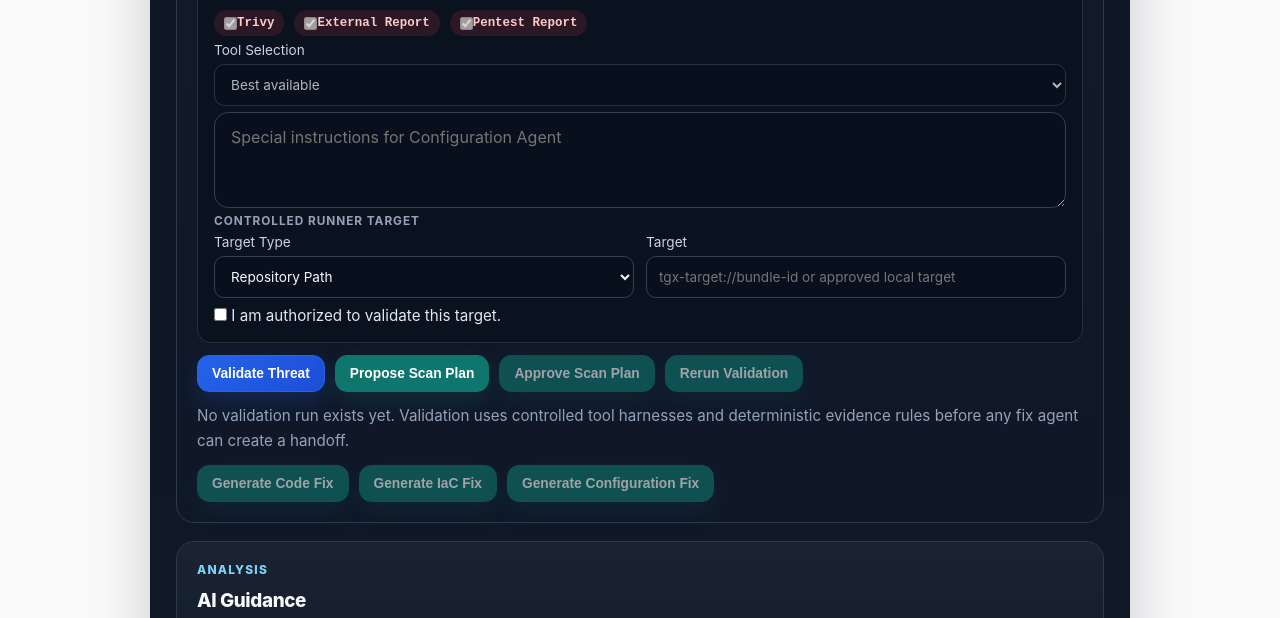
Test: ThreatDetailPage agent orchestration › proposes and approves a controlled domain-agent scan plan
(page scrolled)
Type "/tmp/threatgenix-demo-repo" into the field titled "Controlled runner target reference". click: coordinates (856, 277)
box: [646,256,1066,298]
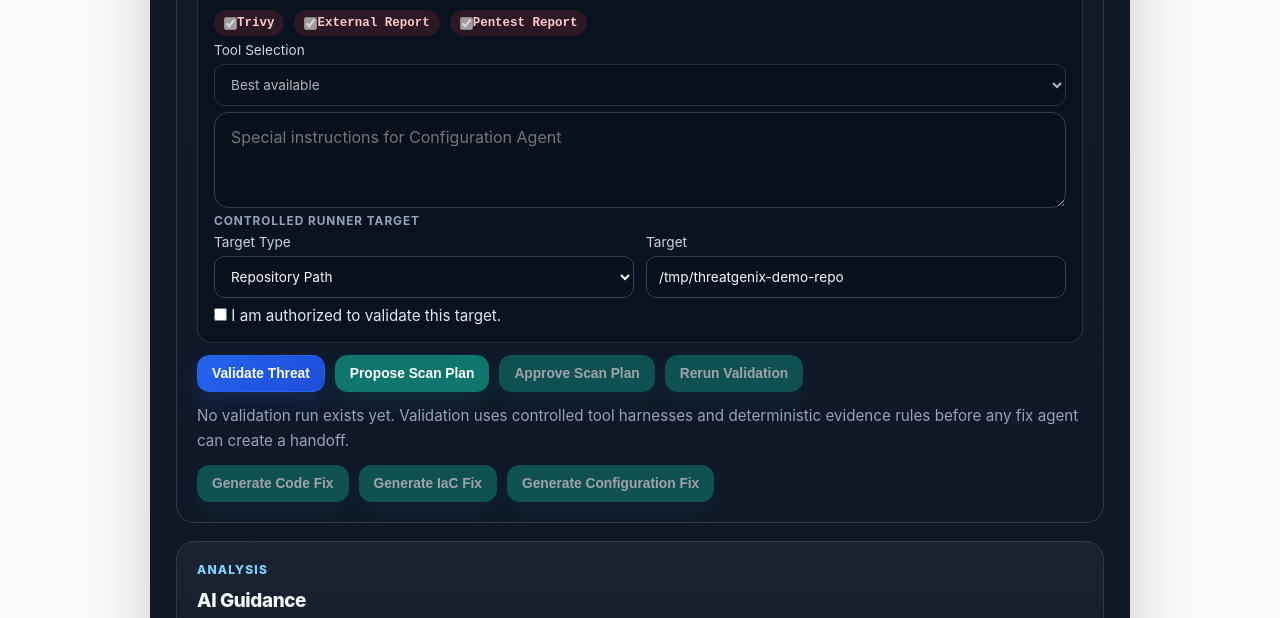
Click the checkbox labelled "I am authorized to validate this target.". click: coordinates (220, 315)
box: [214,308,227,321]
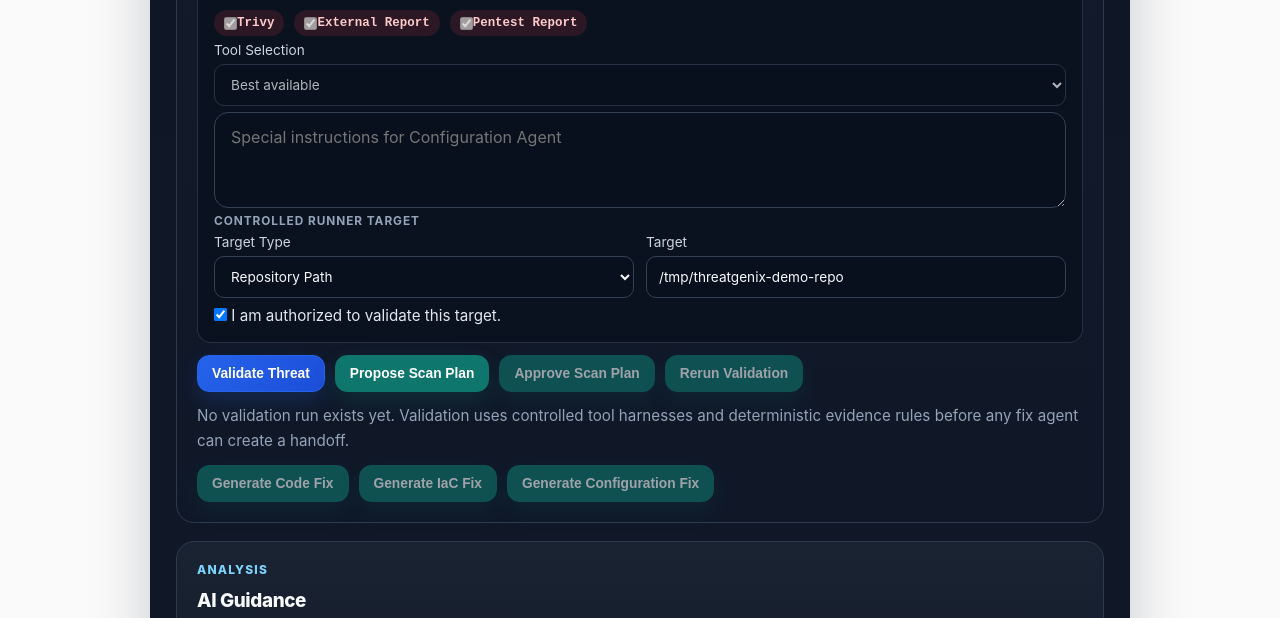
Click the button "Propose Scan Plan". click: coordinates (412, 374)
box: [335,355,489,392]
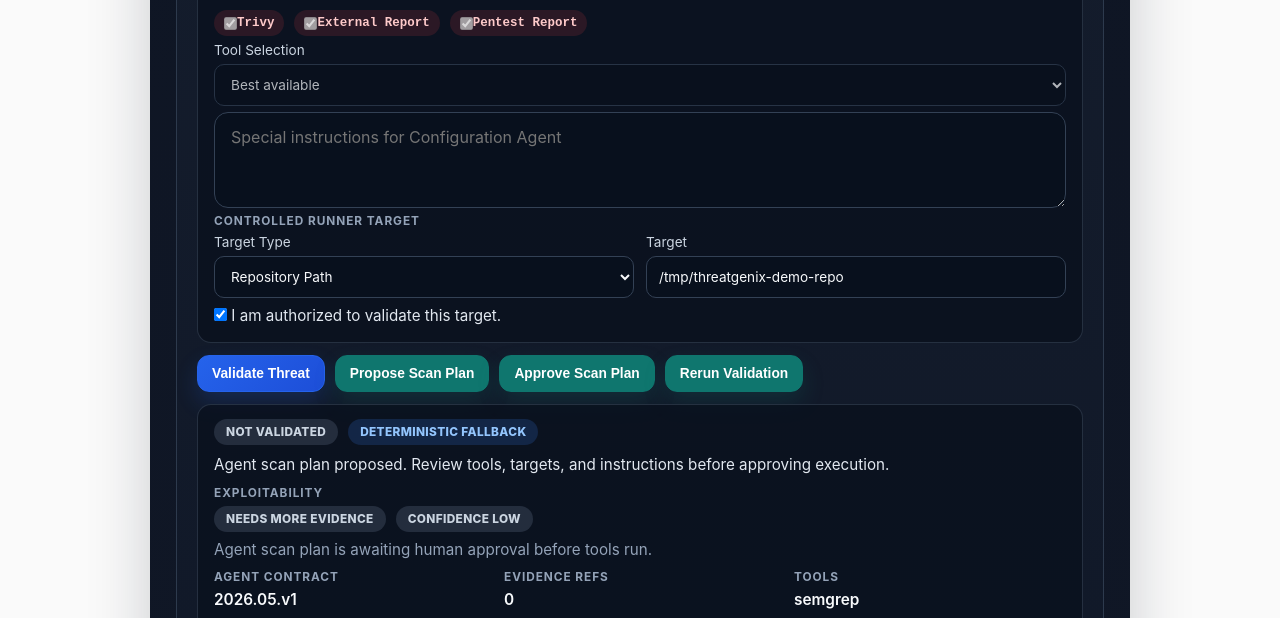
Check: the text "Needs More Evidence" is shown, box [214,506,386,532]
Click the button "Approve Scan Plan". click: coordinates (577, 374)
box: [499,355,655,392]
(page scrolled)
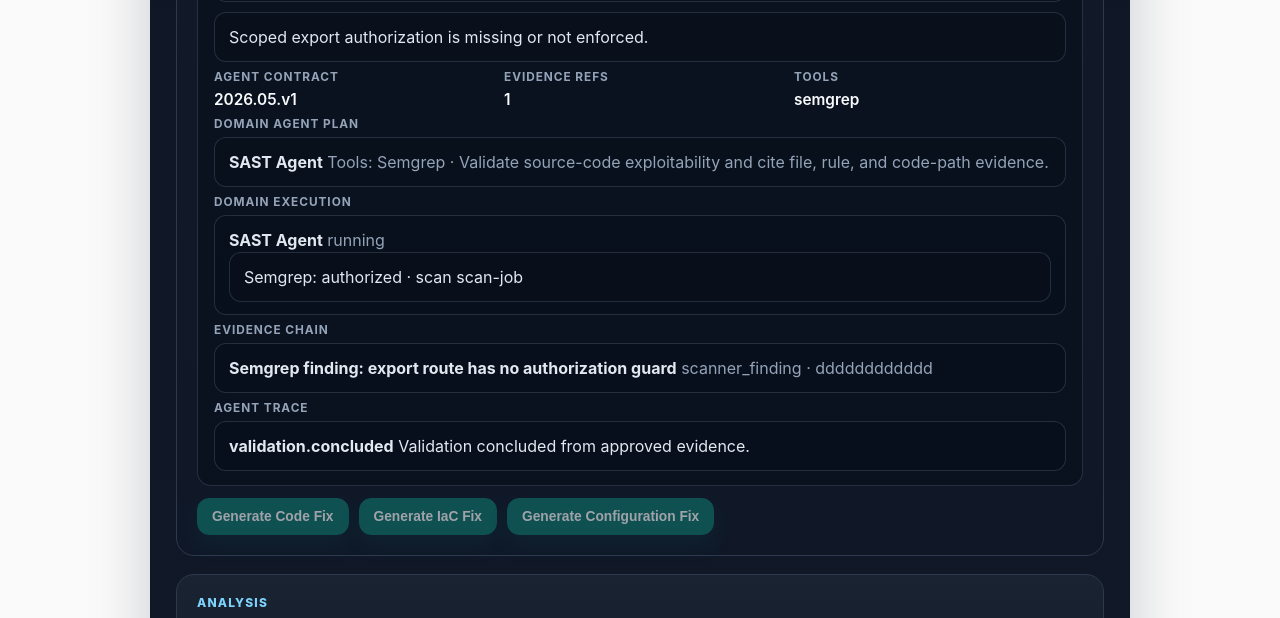
Check: the list item "Semgrep: authorized · scan scan-job" is shown, box [229,252,1051,302]
